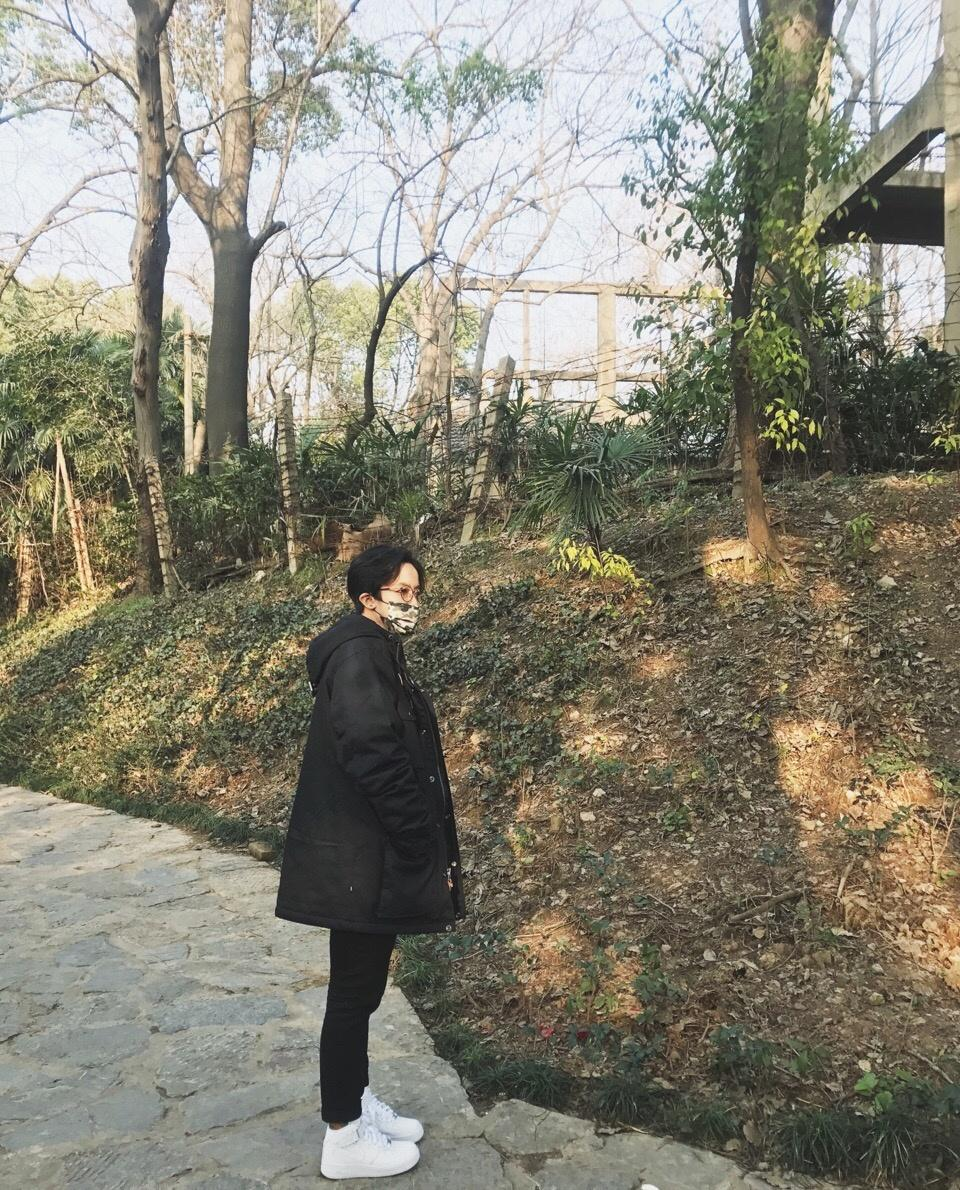WRONG: (367, 577, 427, 637)
